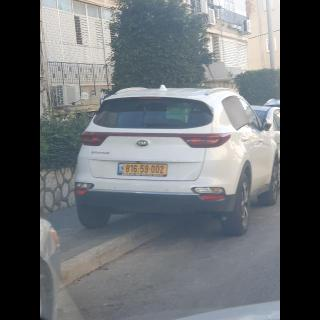LicensePlate: (124, 164, 166, 174)
